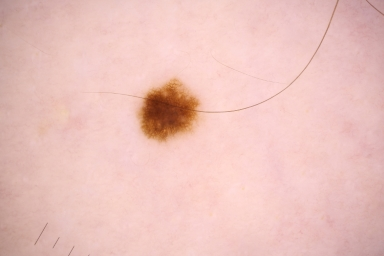nevus: (137, 80, 199, 141)
